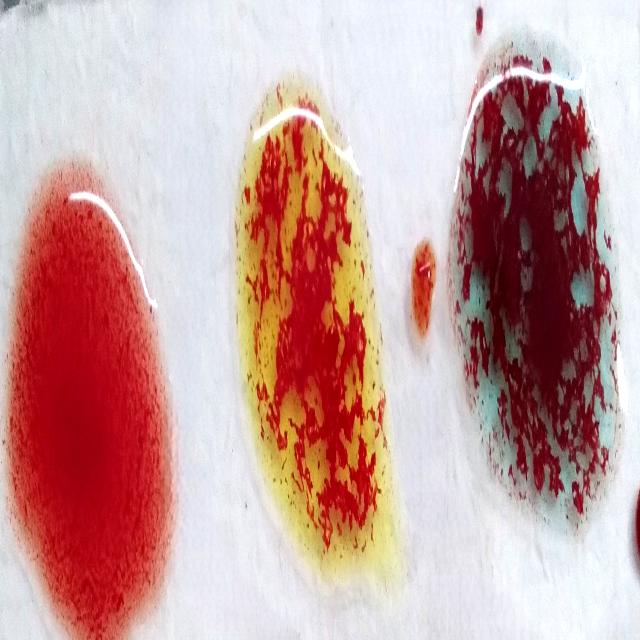A: (457, 57, 624, 537)
B: (237, 103, 391, 604)
D: (12, 193, 168, 638)
